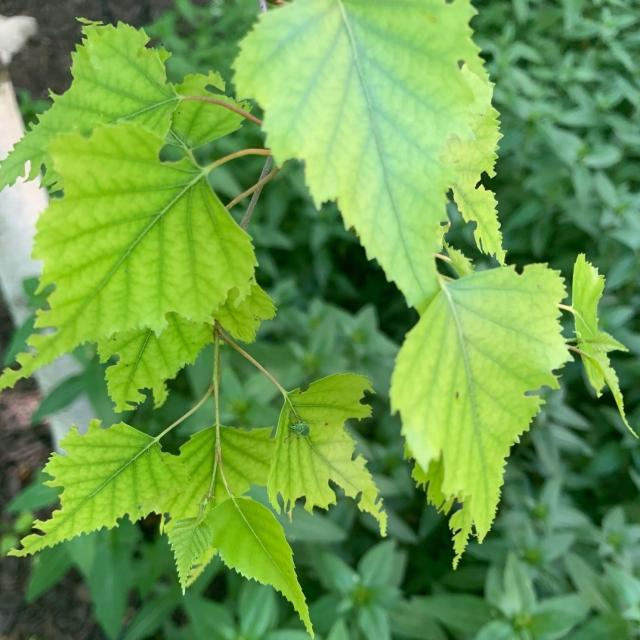Chlorosis: (20, 6, 588, 617)
